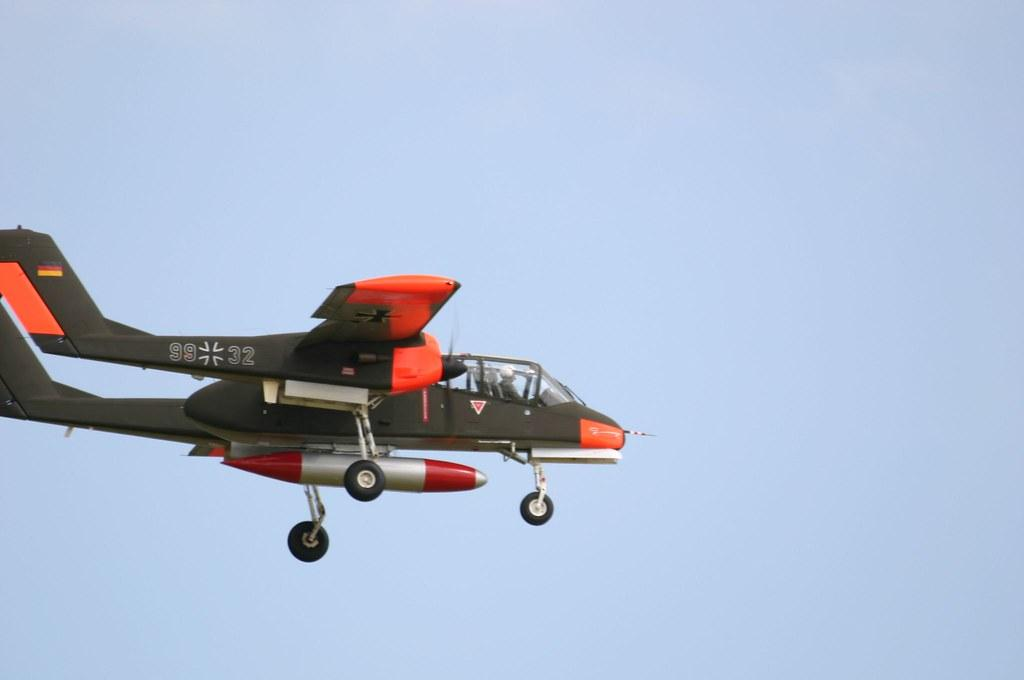plane: (1, 225, 656, 563)
